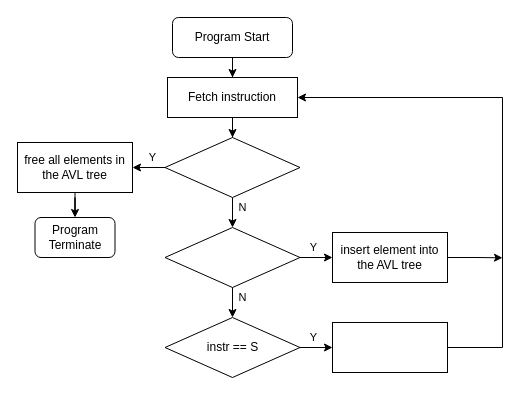
Image size: 528x395. Some labels were removed from this diagram. The shapes that lost their labels are listed below. From the top down, each one's box as (x1, y1, x2, y2) in pixels, then its label:
(164, 136, 300, 198): instr == E
(164, 226, 300, 288): instr == D
(332, 322, 448, 372): search element in the AVL tree
